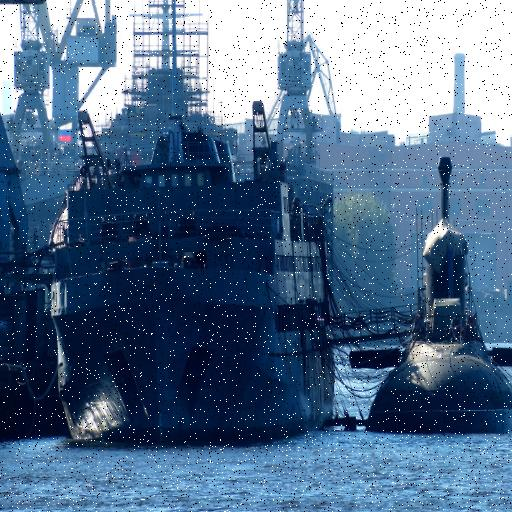submarine: (336, 153, 512, 434)
